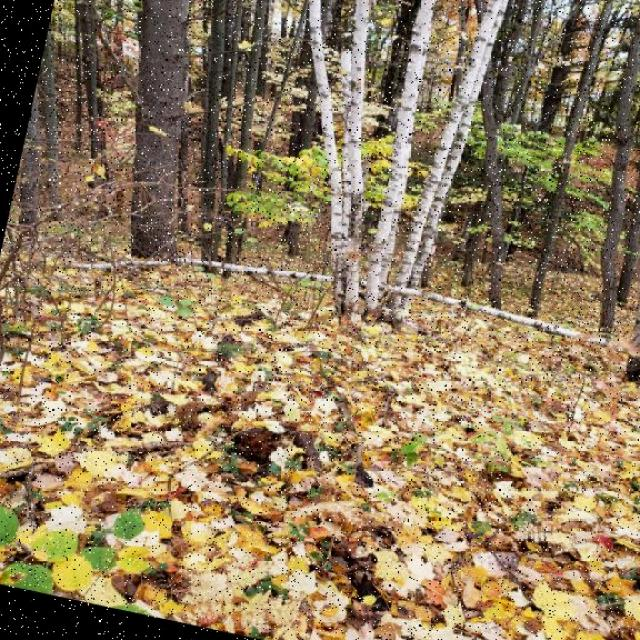fallen_object: (23, 151, 640, 400)
